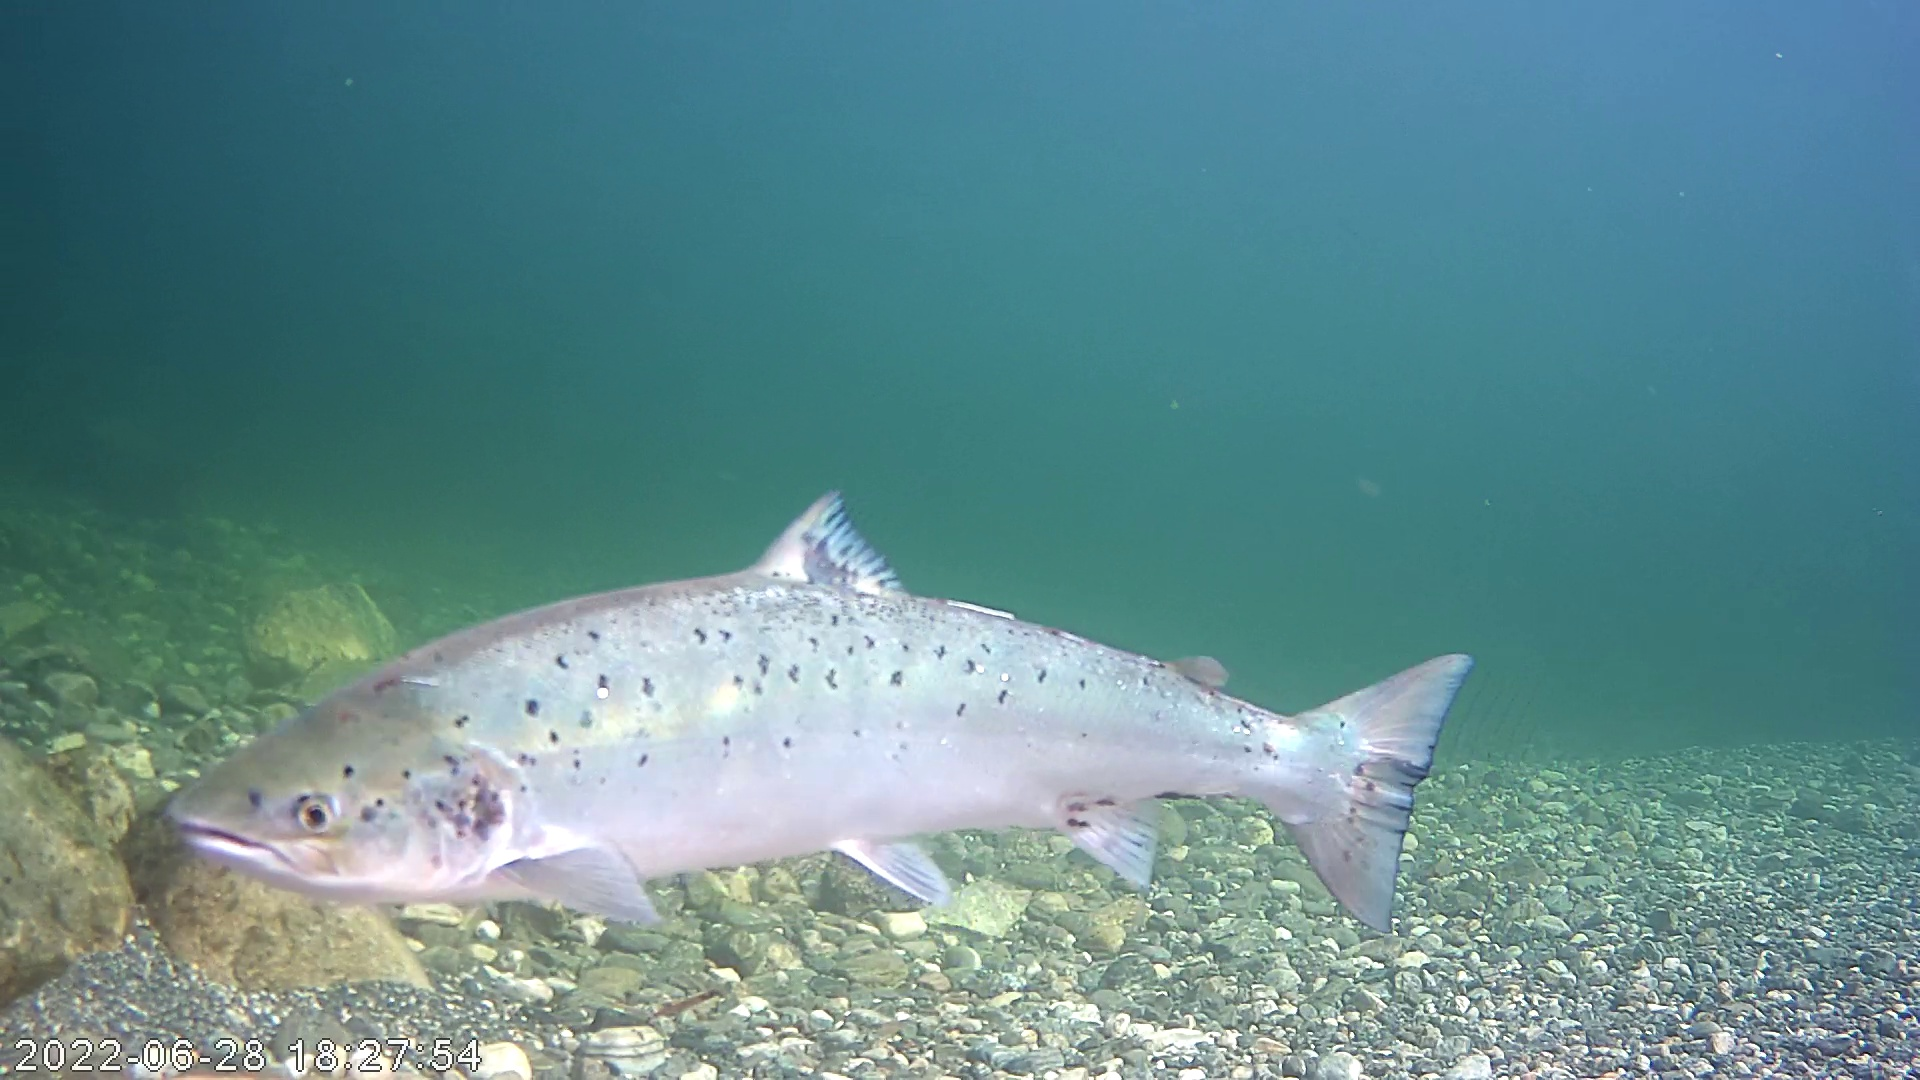salmon: (327, 452, 1458, 960)
